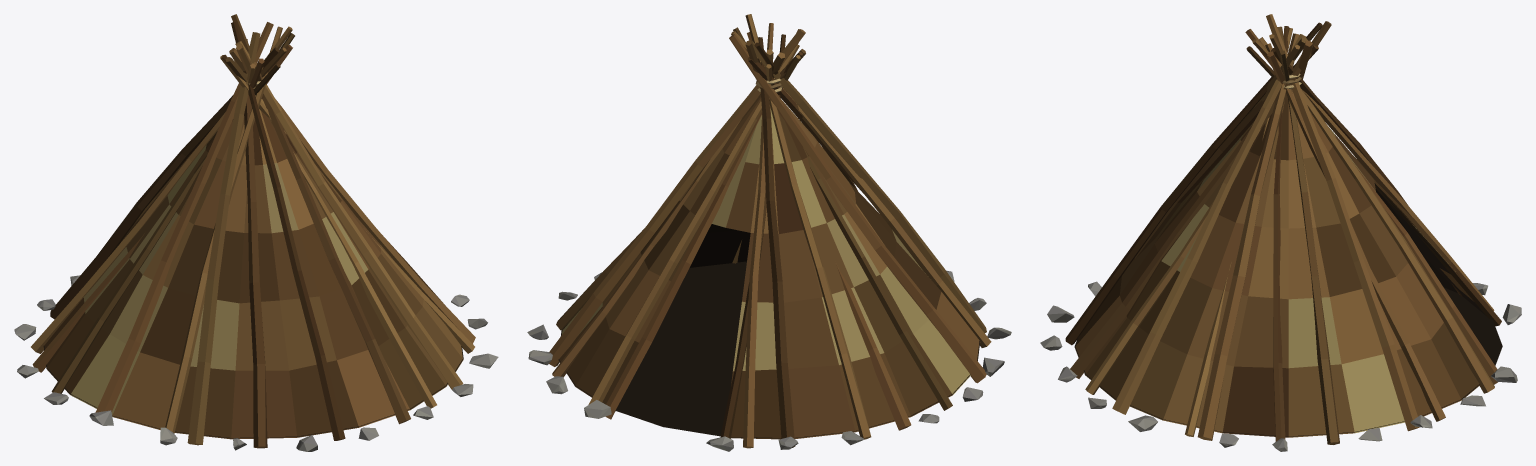
The model's file is stick_tent_3_finita.glb.
The picture shows the model from 3 angles, left to right: view 1: azimuth 30°, elevation 25°; view 2: azimuth 150°, elevation 25°; view 3: azimuth 270°, elevation 25°; orthographic projection.
Visible parts, largest first — view 1: stick_tent_3_finita; view 2: stick_tent_3_finita; view 3: stick_tent_3_finita.
Part boxes in pixels (x1,y1,x2,y2): stick_tent_3_finita: [14, 14, 498, 451]; stick_tent_3_finita: [527, 14, 1011, 451]; stick_tent_3_finita: [1040, 14, 1521, 451].
Bounding box in the file's own units: 4.89 × 3.69 × 4.8.
